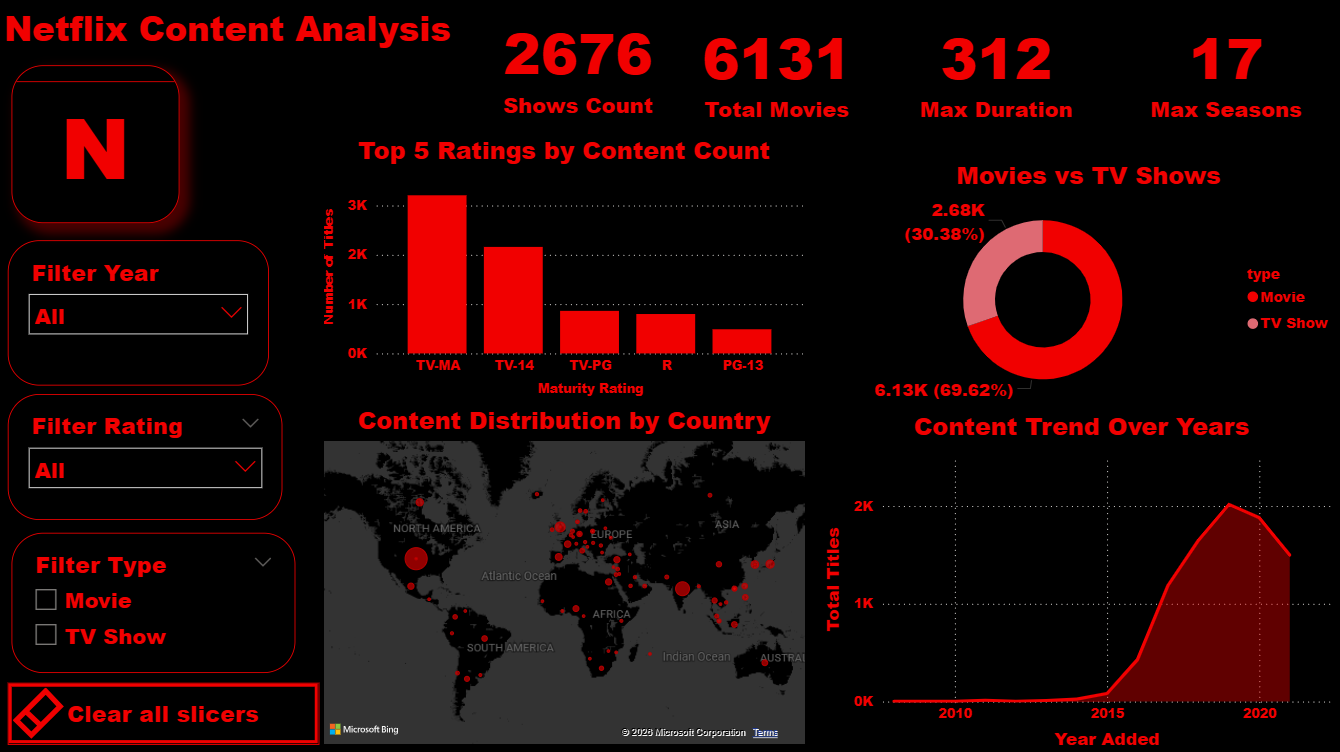

What the dashboard file says about the page in this screenshot:
{"tool":"powerbi","page":{"name":"Page 1","canvas":[1280,720],"ordinal":0},"visuals":[{"type":"slicer","fields":{"Values":["public netflix_titles.rating"]},"box":[8.3,376.2,261.9,120.2],"z":0},{"type":"map","title":"Content Distribution by Country","fields":{"Category":["public netflix_titles.country"],"Size":["CountNonNull(public netflix_titles.show_id)"]},"box":[305,384.2,467.1,330.2],"z":1000},{"type":"areaChart","title":"Content Trend Over Years","fields":{"Category":["public netflix_titles.added_year"],"Y":["CountNonNull(public netflix_titles.type)"]},"box":[781.7,390.2,498.3,330.2],"z":2000},{"type":"clusteredColumnChart","title":"Top 5 Ratings by Content Count","fields":{"Category":["public netflix_titles.rating"],"Y":["CountNonNull(public netflix_titles.show_id)"]},"box":[305,127.3,467.1,257],"z":3000},{"type":"donutChart","title":"Movies vs TV Shows","fields":{"Category":["public netflix_titles.type"],"Y":["CountNonNull(public netflix_titles.show_id)"]},"box":[794.9,151.3,485.1,238.9],"z":4000},{"type":"card","fields":{"Values":["CountNonNull(public netflix_titles.type)"]},"box":[632.1,0,217.9,135.7],"z":5000},{"type":"card","fields":{"Values":["CountNonNull(public netflix_titles.type)"]},"box":[433.3,0,236.9,127.4],"z":6000},{"type":"card","fields":{"Values":["Max(public netflix_titles.unit_value)"]},"box":[840.5,0,219,135.7],"z":7000},{"type":"card","fields":{"Values":["Max(public netflix_titles.unit_value)"]},"box":[1059.5,0,219,135.7],"z":8000},{"type":"slicer","fields":{"Values":["public netflix_titles.added_year"]},"box":[8.3,229.8,248.8,138.1],"z":9000},{"type":"slicer","fields":{"Values":["public netflix_titles.type"]},"box":[11.9,508.3,270.2,133.3],"z":10000},{"type":"textbox","box":[12,63.6,159.7,150.1],"z":11000},{"type":"textbox","box":[0,0,475,76.2],"z":12000},{"type":"actionButton","box":[8.4,650.8,296.6,58.8],"z":13000}]}

Visuals, with their boxes in screenshot pixels (x1, y1, x2, y2), scaled from the page's 1280x720 canvas onto the 1340x752 screenshot:
slicer - public netflix_titles.rating: [9, 393, 283, 518]
"Content Distribution by Country" map: [319, 401, 808, 746]
"Content Trend Over Years" areaChart: [818, 408, 1339, 751]
"Top 5 Ratings by Content Count" clusteredColumnChart: [319, 133, 808, 401]
"Movies vs TV Shows" donutChart: [832, 158, 1339, 408]
card - CountNonNull(public netflix_titles.type): [662, 0, 890, 142]
card - CountNonNull(public netflix_titles.type): [454, 0, 702, 133]
card - Max(public netflix_titles.unit_value): [880, 0, 1109, 142]
card - Max(public netflix_titles.unit_value): [1109, 0, 1338, 142]
slicer - public netflix_titles.added_year: [9, 240, 269, 384]
slicer - public netflix_titles.type: [12, 531, 295, 670]
textbox: [13, 66, 180, 223]
textbox: [0, 0, 497, 80]
actionButton: [9, 680, 319, 741]
